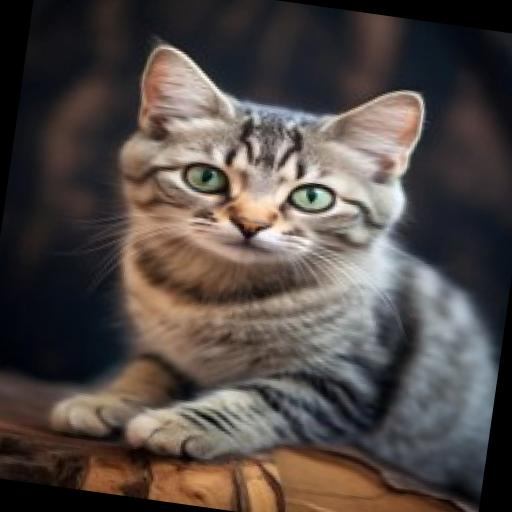cat: (21, 10, 512, 503)
